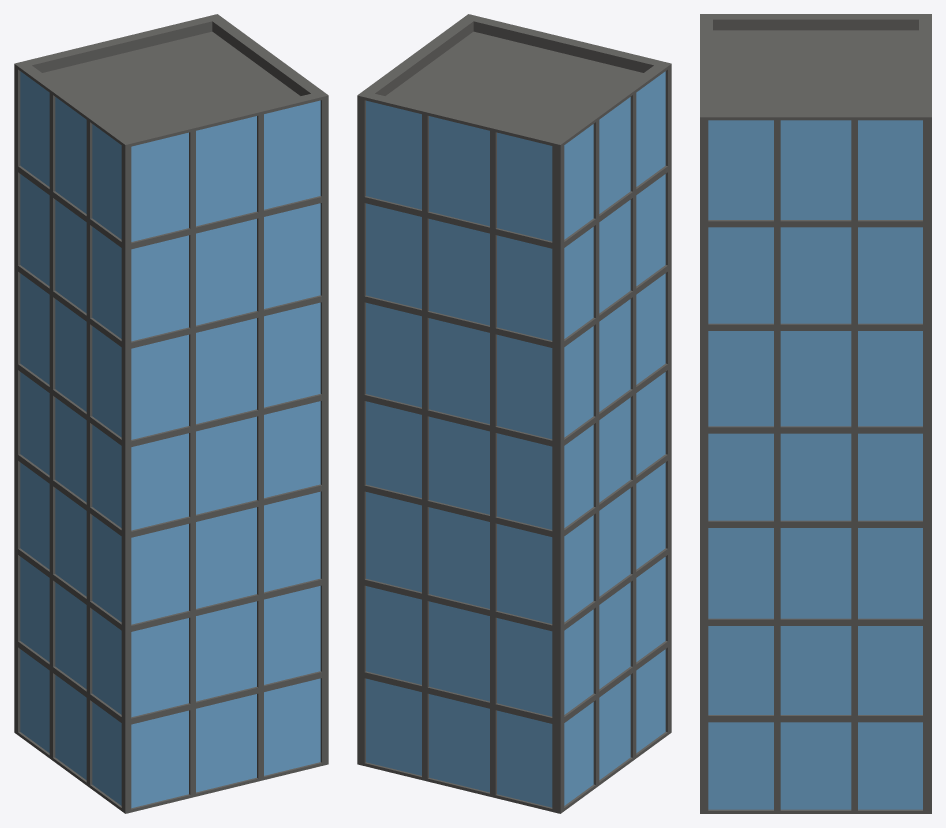
File: Buidling6.fbx
3 renders of one model, left to right at view 1: azimuth 30°, elevation 25°; view 2: azimuth 150°, elevation 25°; view 3: azimuth 270°, elevation 25°, orthographic. The views are drawn at different scales.
Parts seen in each view (by area): view 1: City.005; view 2: City.005; view 3: City.005.
Part boxes in pixels (box(x1,y1,x2,y2)): City.005: box(14, 14, 328, 813); City.005: box(357, 14, 671, 813); City.005: box(700, 14, 931, 813).
Bounding box in the file's own units: 1373 × 4317 × 1302.
